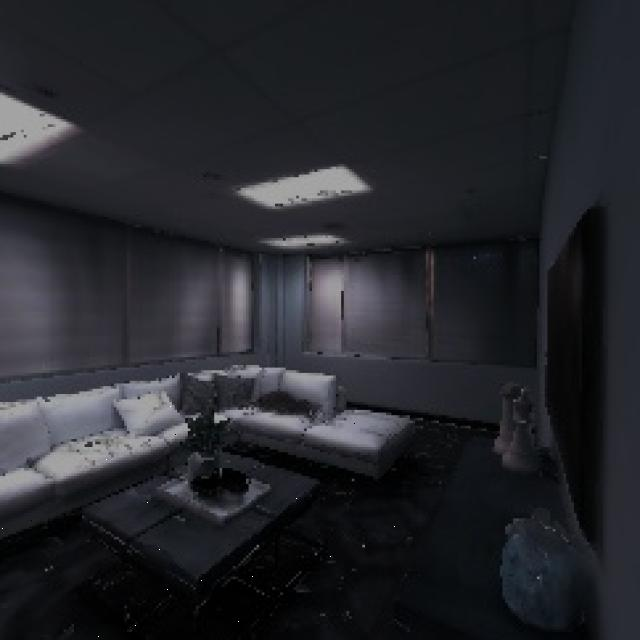sofa: (0, 354, 431, 540)
table: (66, 420, 336, 640)
